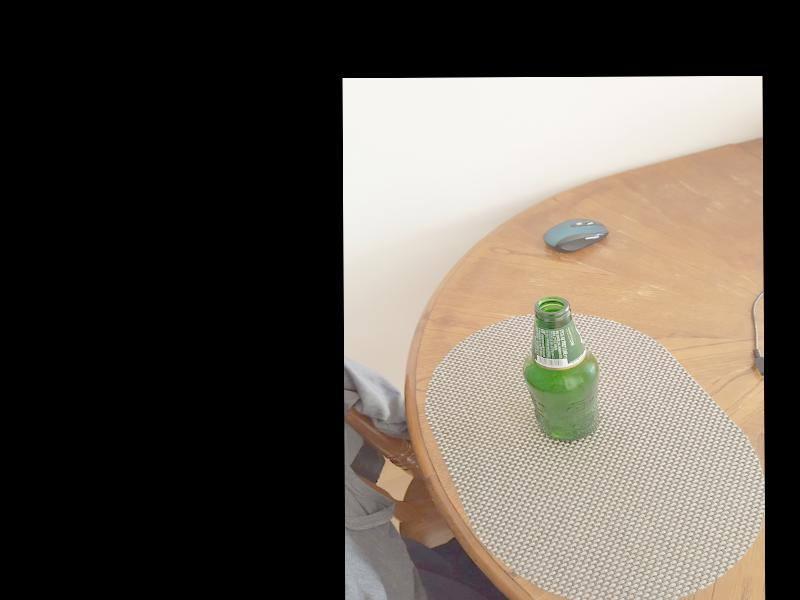Beer: (520, 295, 602, 441)
